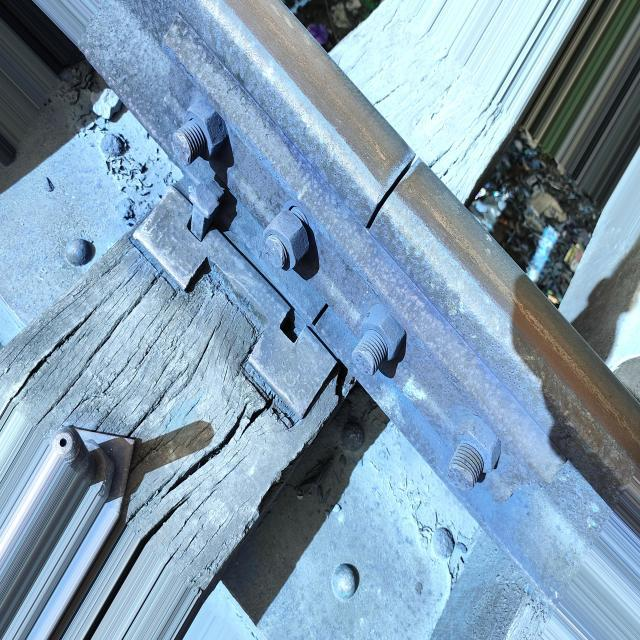Good Joint: (154, 20, 562, 495)
Missing Dogscrew: (280, 306, 298, 343)
